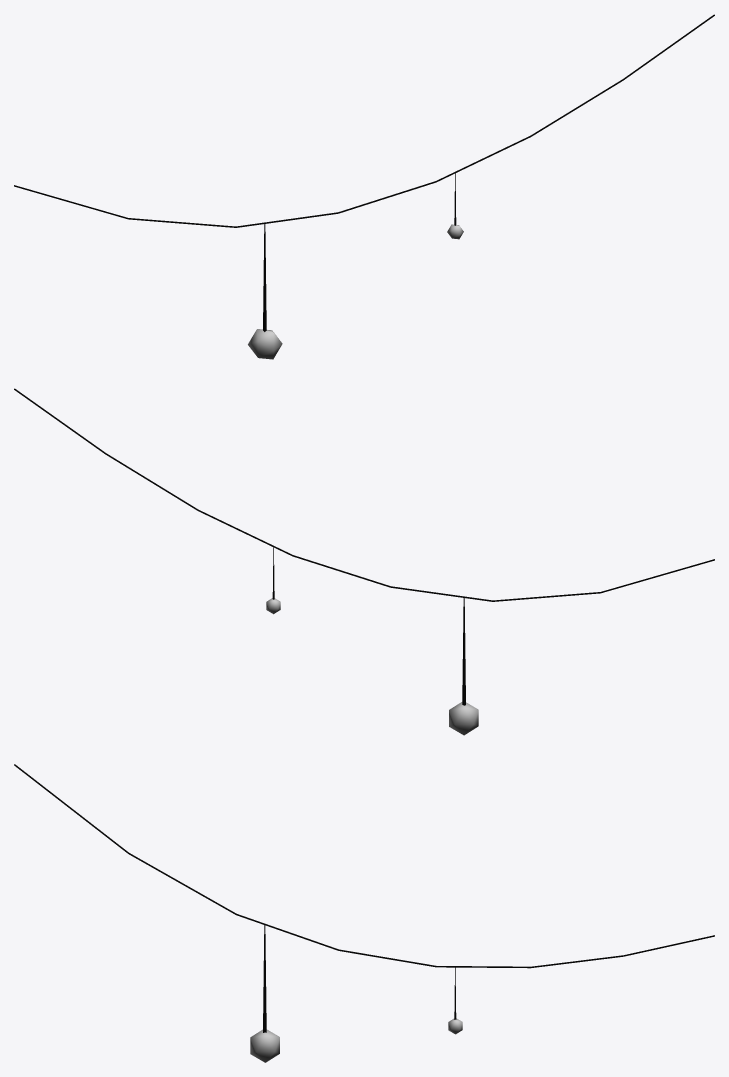
The model's file is Garland_A_5_SpherifyLamps_White.fbx.
3 renders of one model, top to bottom at view 1: azimuth 30°, elevation 25°; view 2: azimuth 150°, elevation 25°; view 3: azimuth 330°, elevation 25°, orthographic.
Visible parts, largest first — view 1: Garland_A_5_SpherifyLamps_White; view 2: Garland_A_5_SpherifyLamps_White; view 3: Garland_A_5_SpherifyLamps_White.
Part boxes in pixels (bbox=[...]): Garland_A_5_SpherifyLamps_White: bbox=[14, 14, 714, 359]; Garland_A_5_SpherifyLamps_White: bbox=[14, 388, 714, 735]; Garland_A_5_SpherifyLamps_White: bbox=[14, 764, 714, 1062].
Size of the model in its own units: 673 by 214 by 29.13.
